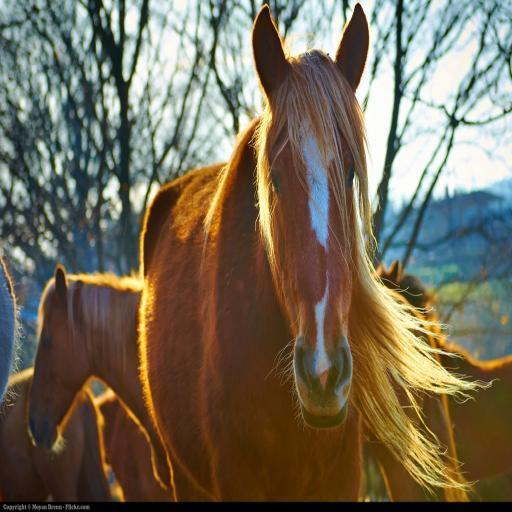horse: (138, 0, 492, 502), (24, 262, 474, 508), (0, 365, 113, 509)
